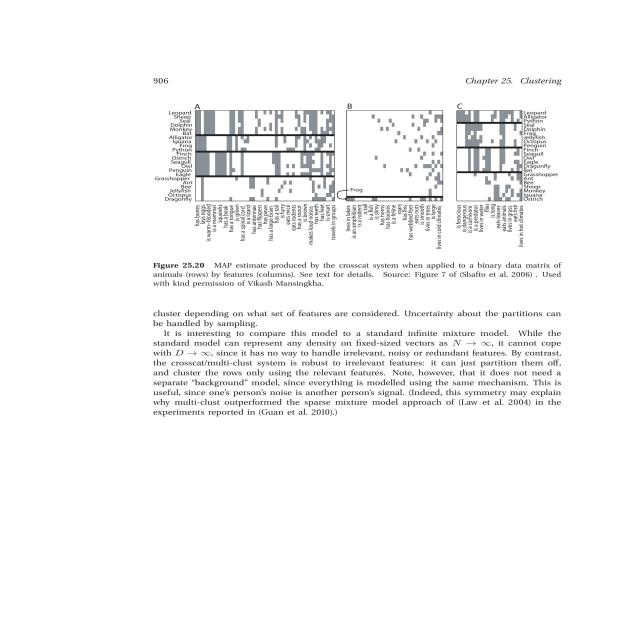diagram: (115, 97, 601, 306)
